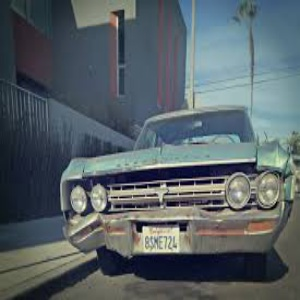bumper: (57, 211, 135, 259)
